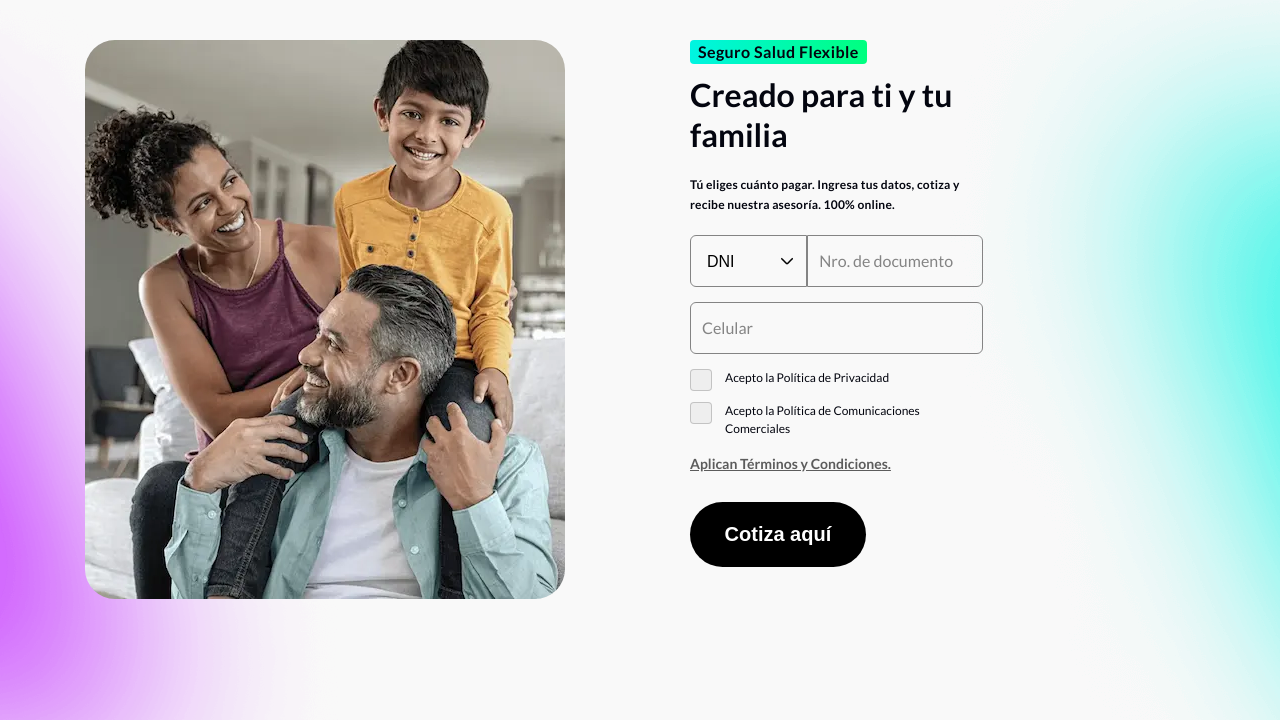
Scenario: RegistrationForm › Validación del número de documento › debe mostrar error si RUC tiene menos de 11 dígitos al submit
Select "RUC" in the dropdown at (749, 261), box [690,235,807,287]
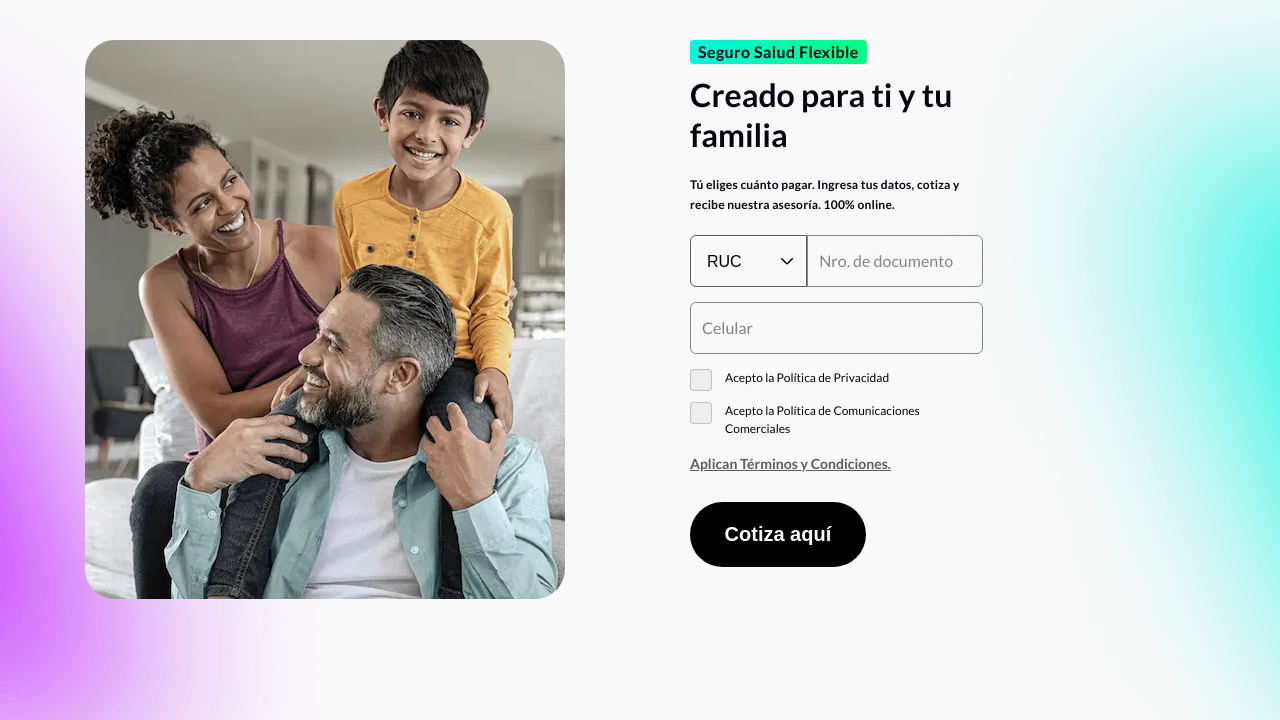
Type "1234567890" into the field labelled "Nro. de documento" at (895, 261), box [807,235,983,287]
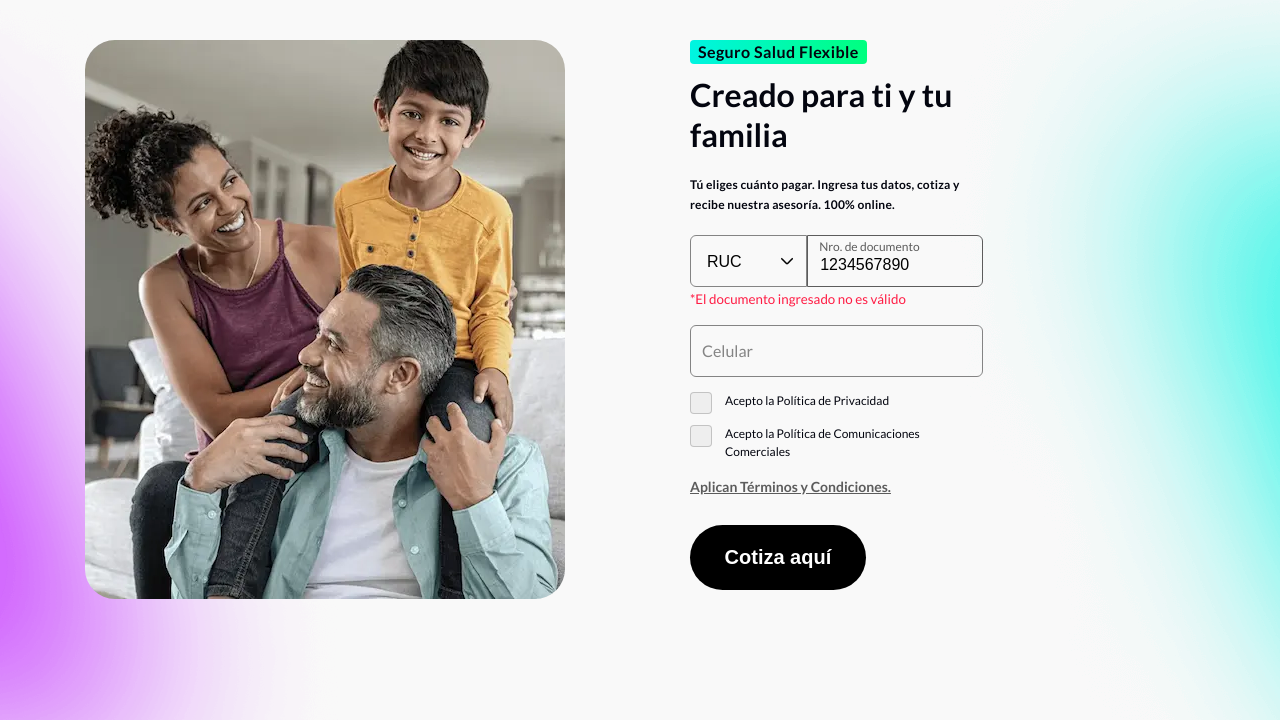
Type "987654321" into the field labelled "Celular" at (836, 351), box [690,325,983,377]
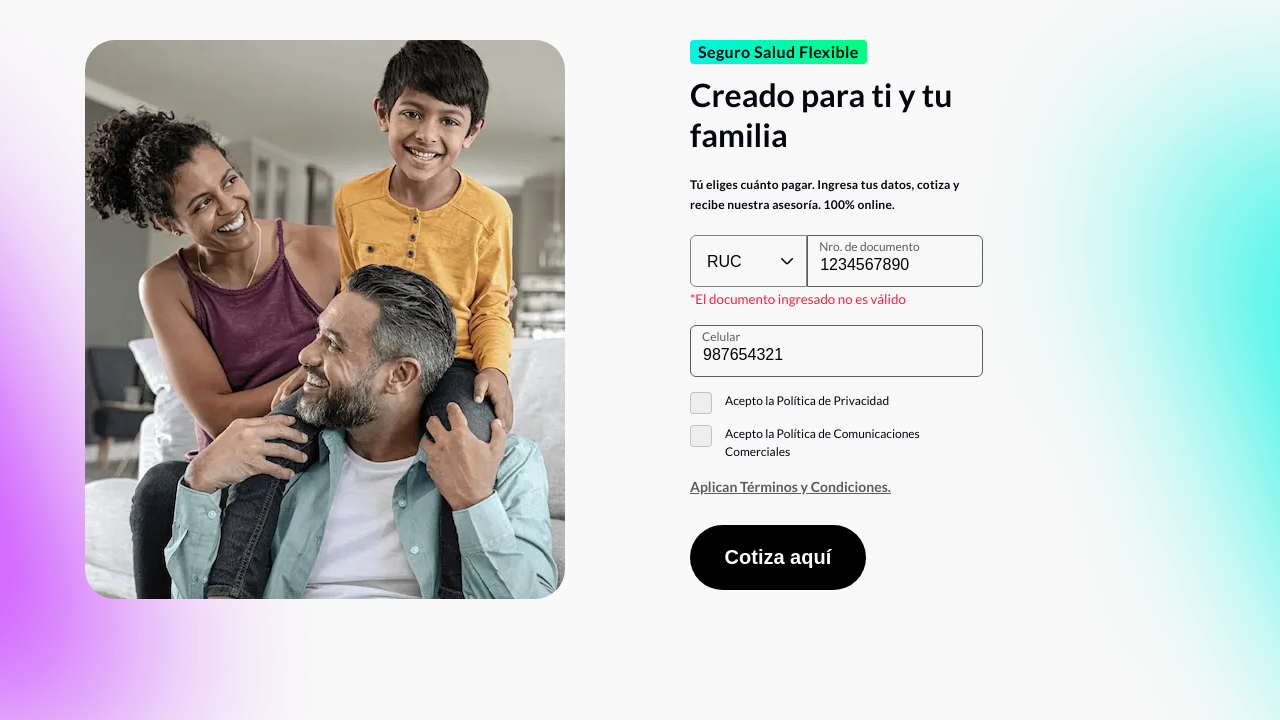
Click the checkbox labelled "Acepto la Política de Privacidad" at (790, 403), box [690,392,889,414]
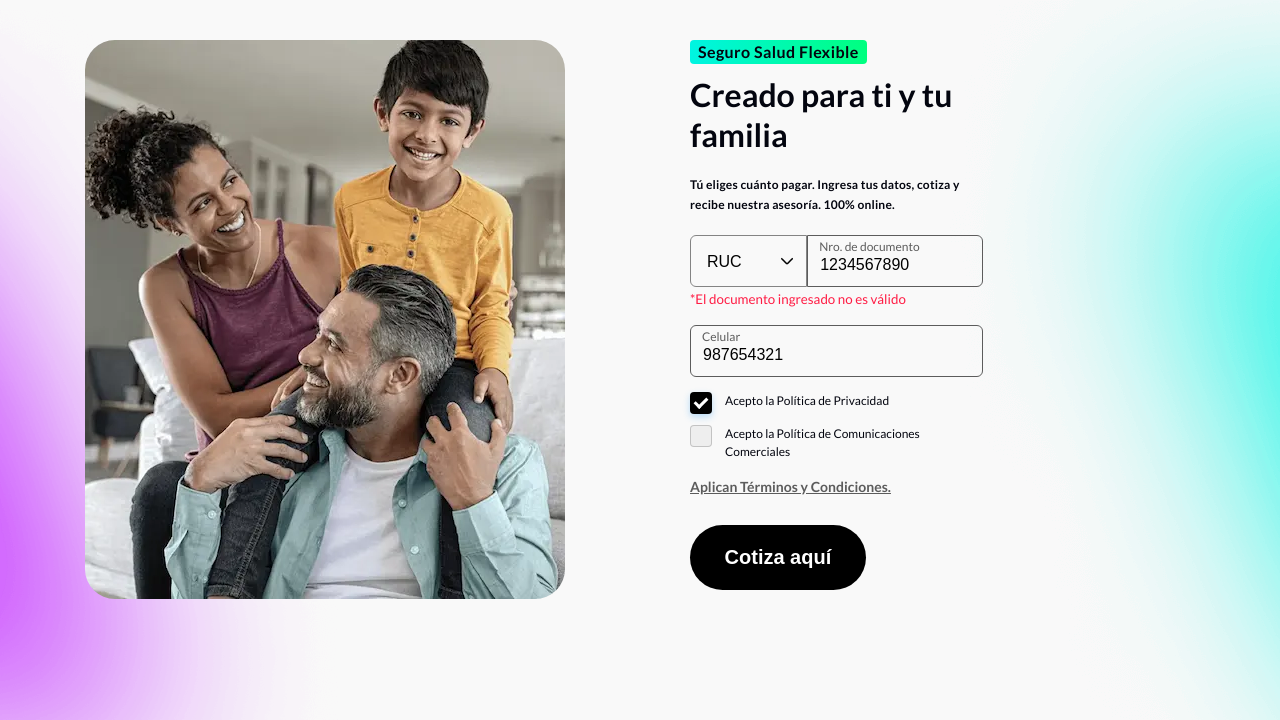
Click the checkbox labelled "Acepto la Política de Comunicaciones Comerciales" at (805, 442), box [690,425,920,459]
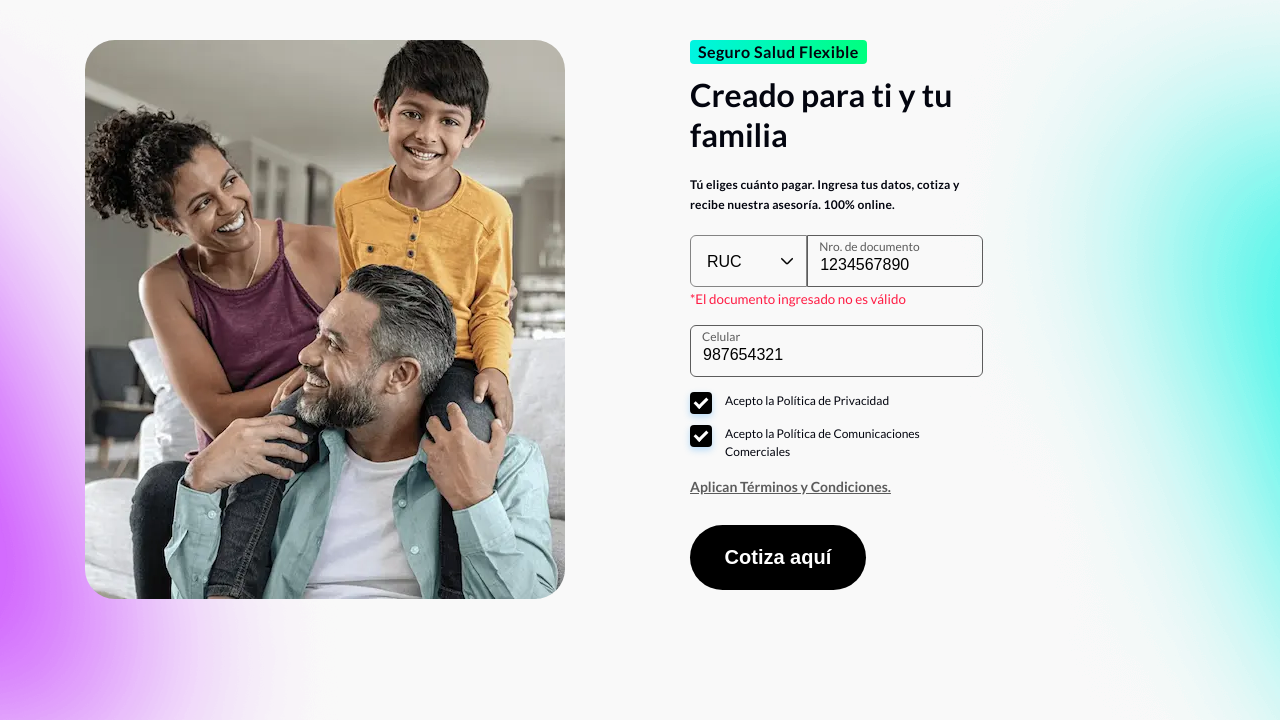
Click the button "Cotiza aquí" at (778, 557), box [690,525,866,590]
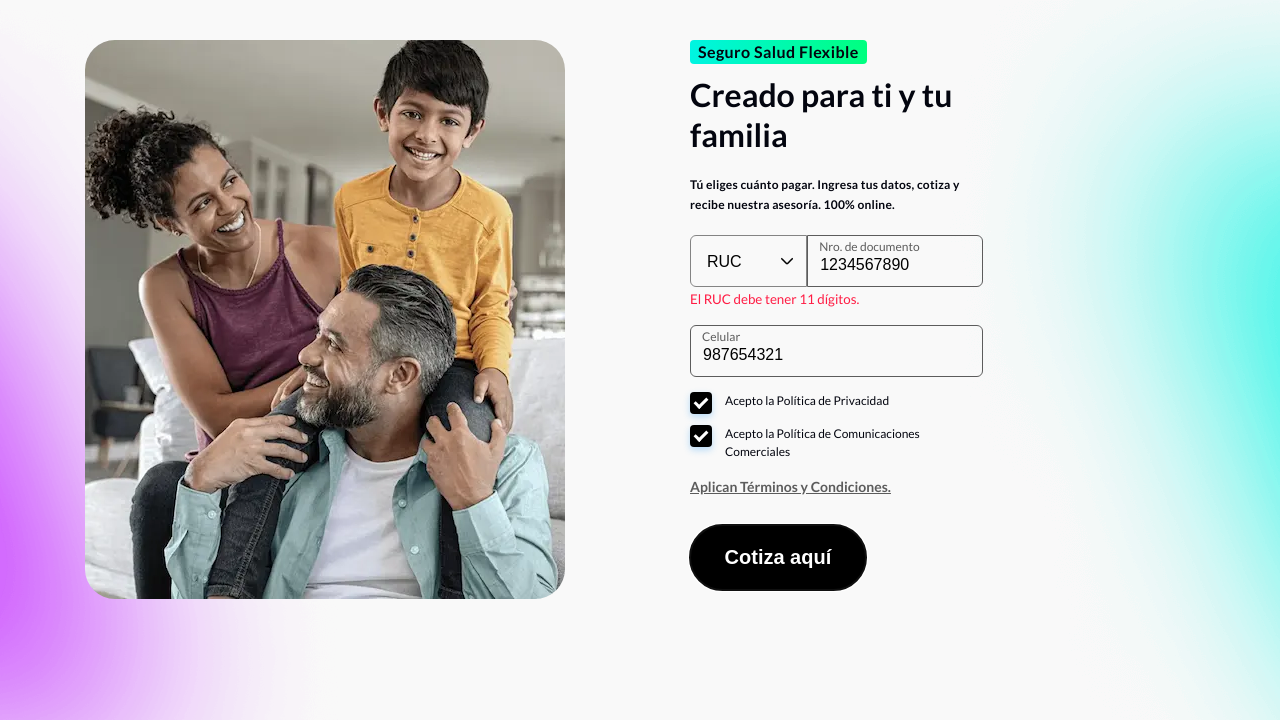
Expected: the text "El RUC debe tener 11 dígitos." is shown, [690,291,859,307]
